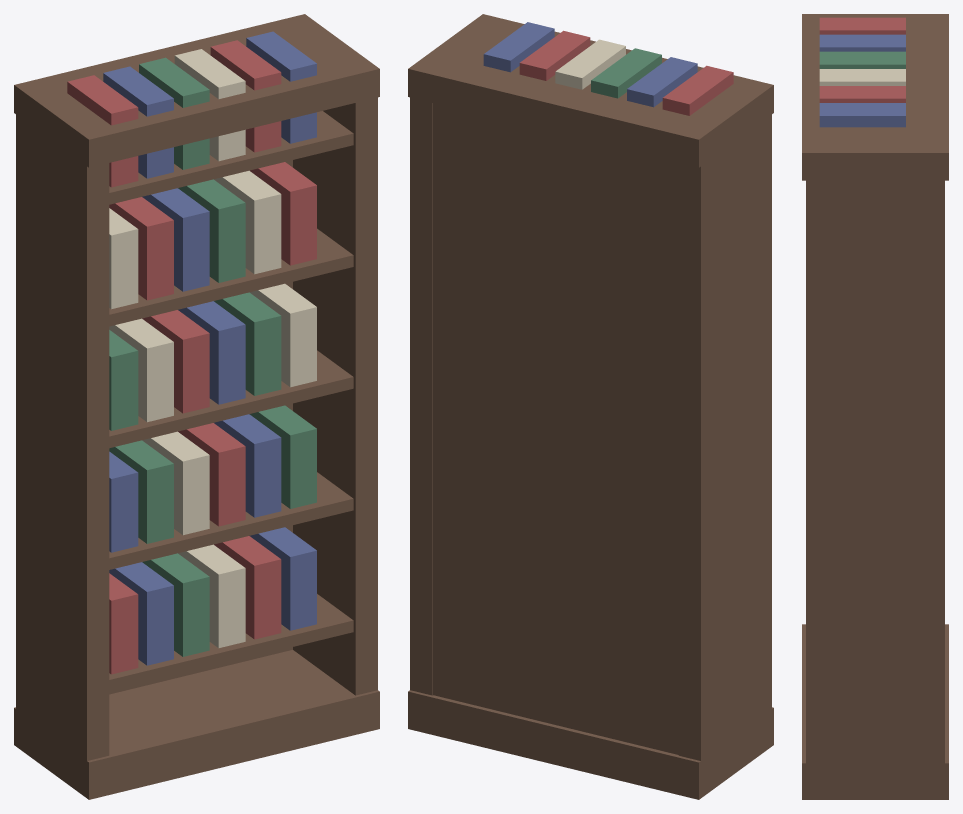
File: haunted_bookcase_slim.glb
The picture shows the model from 3 angles, left to right: view 1: azimuth 30°, elevation 25°; view 2: azimuth 150°, elevation 25°; view 3: azimuth 270°, elevation 25°; orthographic projection. The views are drawn at different scales.
Parts seen in each view (by area): view 1: Haunted_Bookcase_Slim; view 2: Haunted_Bookcase_Slim; view 3: Haunted_Bookcase_Slim.
Part boxes in pixels (x1,y1,x2,y2): Haunted_Bookcase_Slim: (14, 14, 379, 799); Haunted_Bookcase_Slim: (408, 14, 773, 799); Haunted_Bookcase_Slim: (802, 14, 948, 799).
Bounding box in the file's own units: 1.3 × 2.87 × 0.58.
